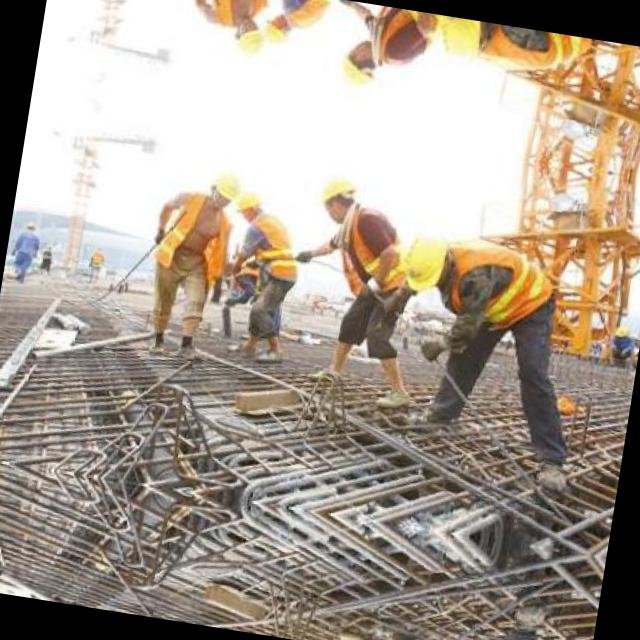helmet: (391, 224, 452, 298), (312, 162, 364, 228), (332, 35, 384, 101), (426, 14, 486, 70), (200, 157, 251, 216), (223, 11, 274, 70), (256, 5, 292, 50), (228, 185, 264, 229)
